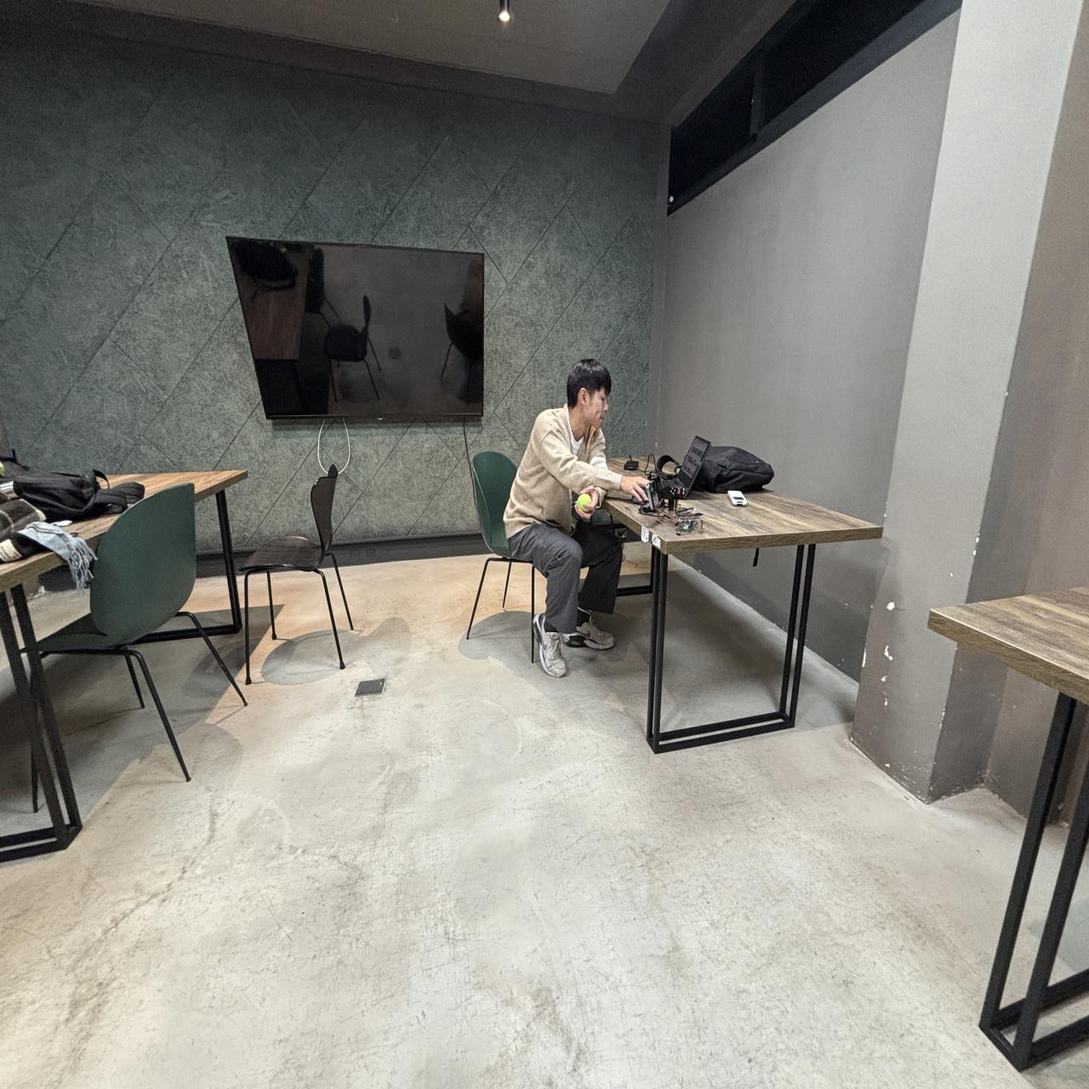tennisball: (577, 493, 594, 513)
